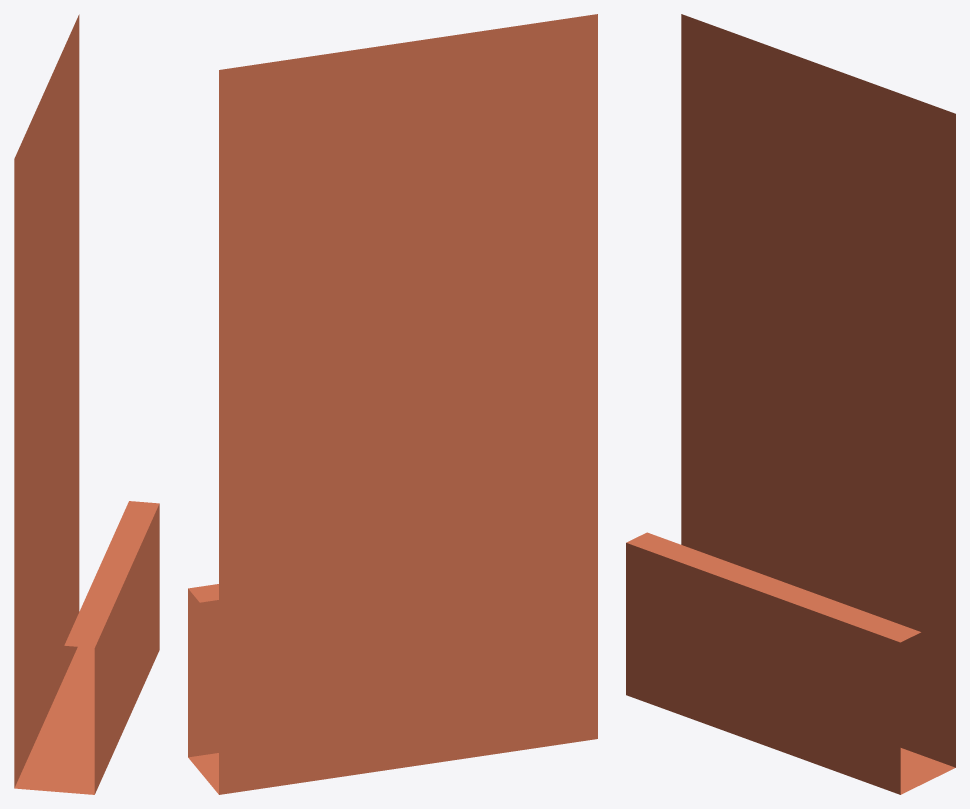
File: Flap_1.fbx
3 views of the same model, side by side, from view 1: azimuth 30°, elevation 25°; view 2: azimuth 150°, elevation 25°; view 3: azimuth 270°, elevation 25° (orthographic). The views are drawn at different scales.
Visible parts, largest first — view 1: Flap_1; view 2: Flap_1; view 3: Flap_1.
Boxes of the visible parts, x1,y1,x2,y2 form: Flap_1: [14, 14, 159, 794]; Flap_1: [188, 14, 597, 794]; Flap_1: [626, 14, 955, 794].
Size of the model in its own units: 252 by 605 by 277.
